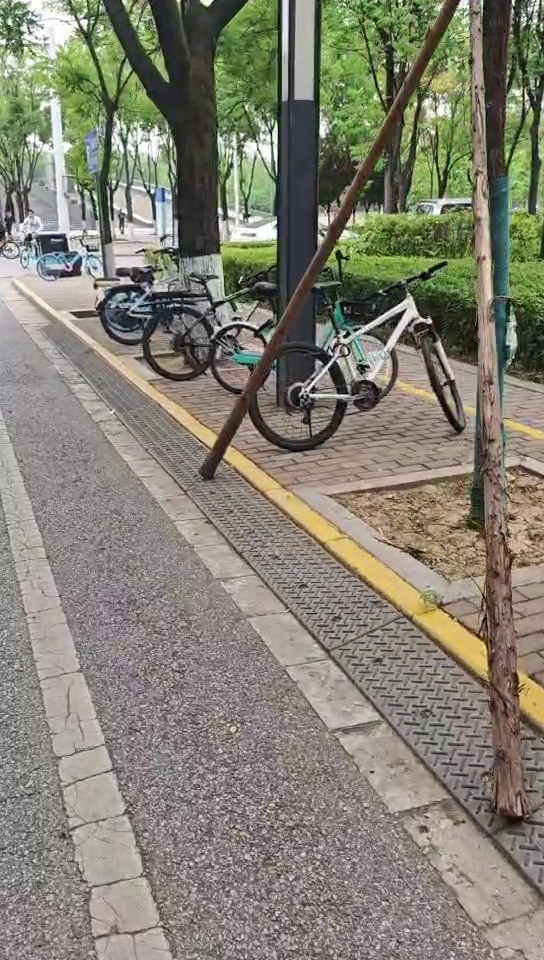others: (263, 280, 470, 458), (135, 262, 273, 363)
shared_bike_qingcong: (212, 267, 394, 401)
